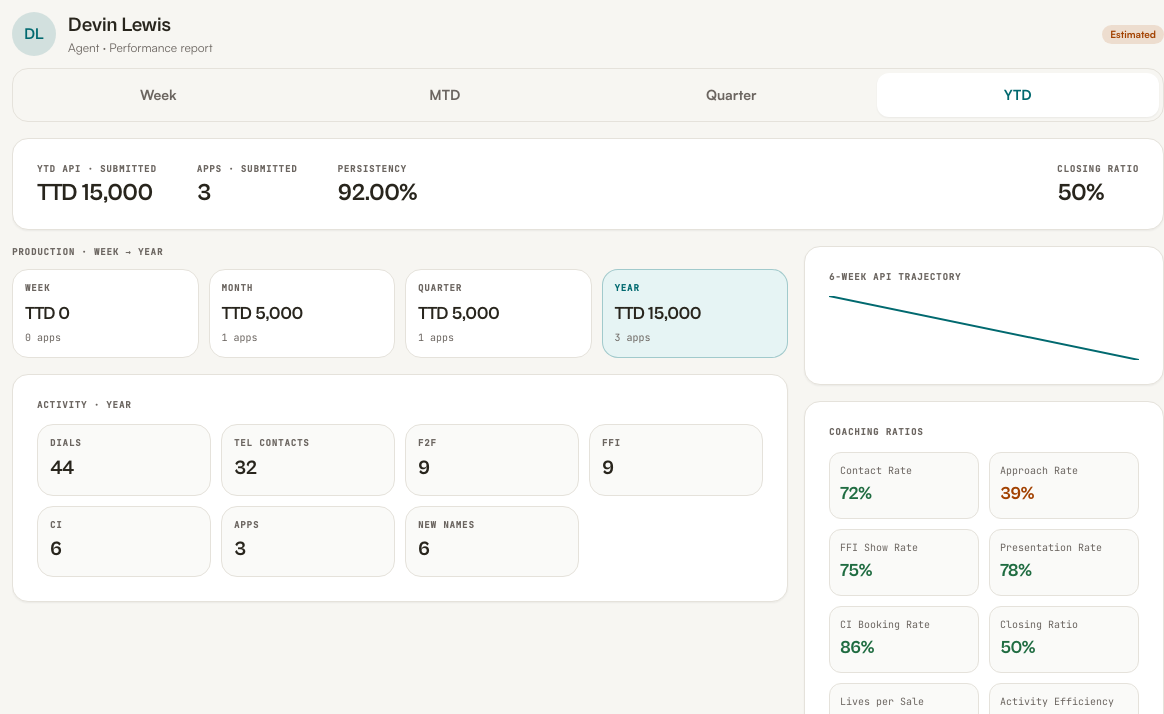
Test case: AgentReportView — layouts & states › TimePeriodToggle switches the active period (activity header follows)
Expected: the text "Activity · Year" is shown, x1=37 y1=398 x2=132 y2=410
Step 1. Click the tab "Week" → (158, 95), box x1=17 y1=73 x2=300 y2=117
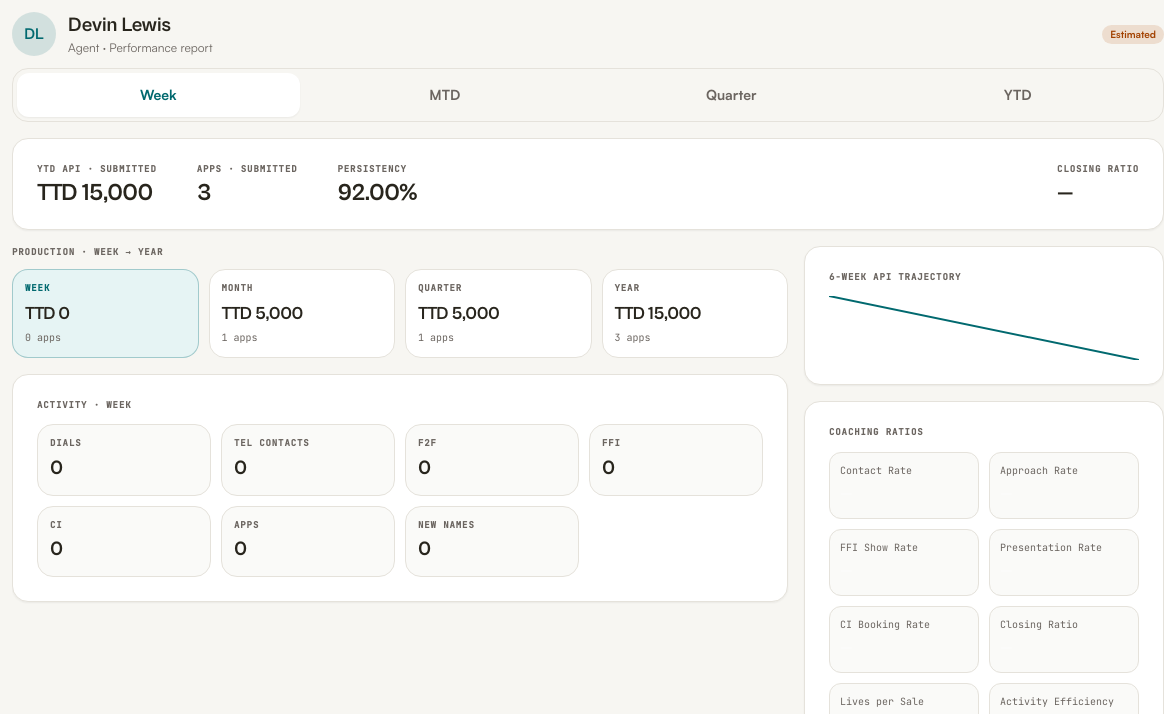
Now the text "Activity · Week" is shown, box x1=37 y1=398 x2=132 y2=410
